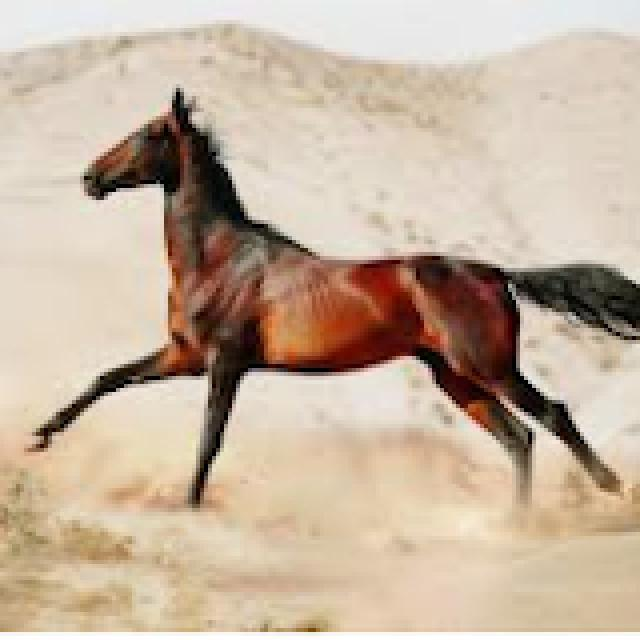Horse: (20, 80, 636, 524)
